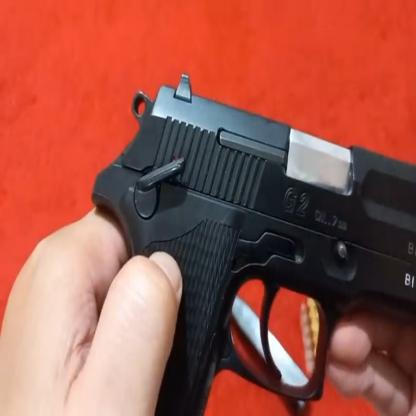handgun: (126, 67, 416, 416)
